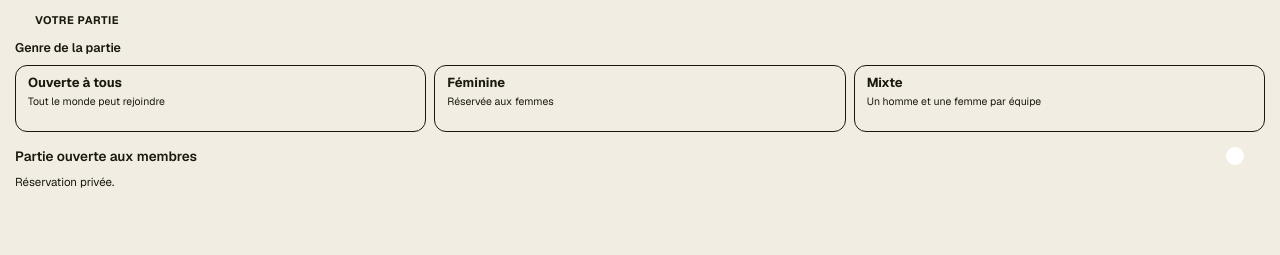
Test: OpenMatchQuickSwitch › erreur mappée affichée
Click the switch named "Partie ouverte aux membres". click: (1244, 156)
box: [1223,144,1265,168]
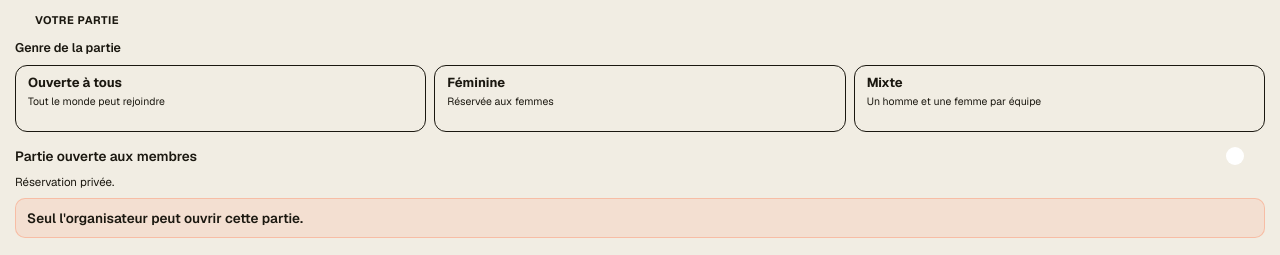
Expected: the text "Seul l'organisateur peut ouvrir cette partie." is shown, [15,198,1265,238]
